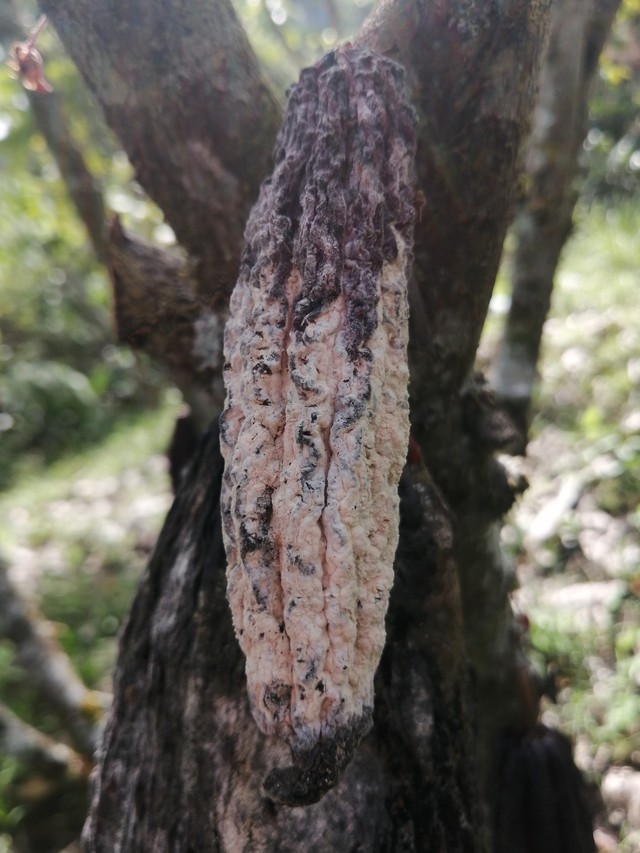moniliophthora roreri: (203, 22, 450, 817)
